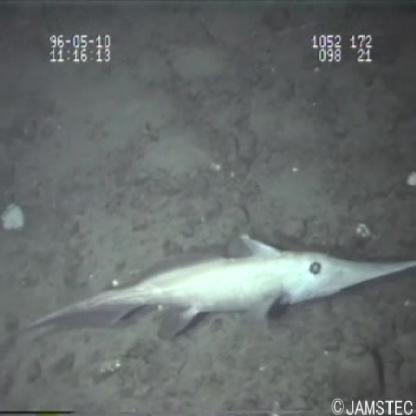Bio: (10, 228, 416, 346)
